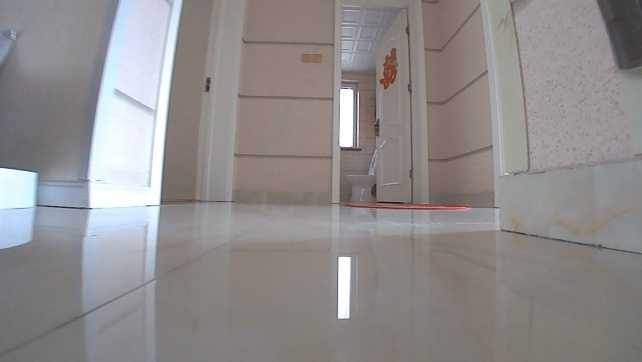blanket: (345, 200, 469, 210)
door_anno: (372, 0, 430, 203)
toilet: (348, 148, 375, 203)
